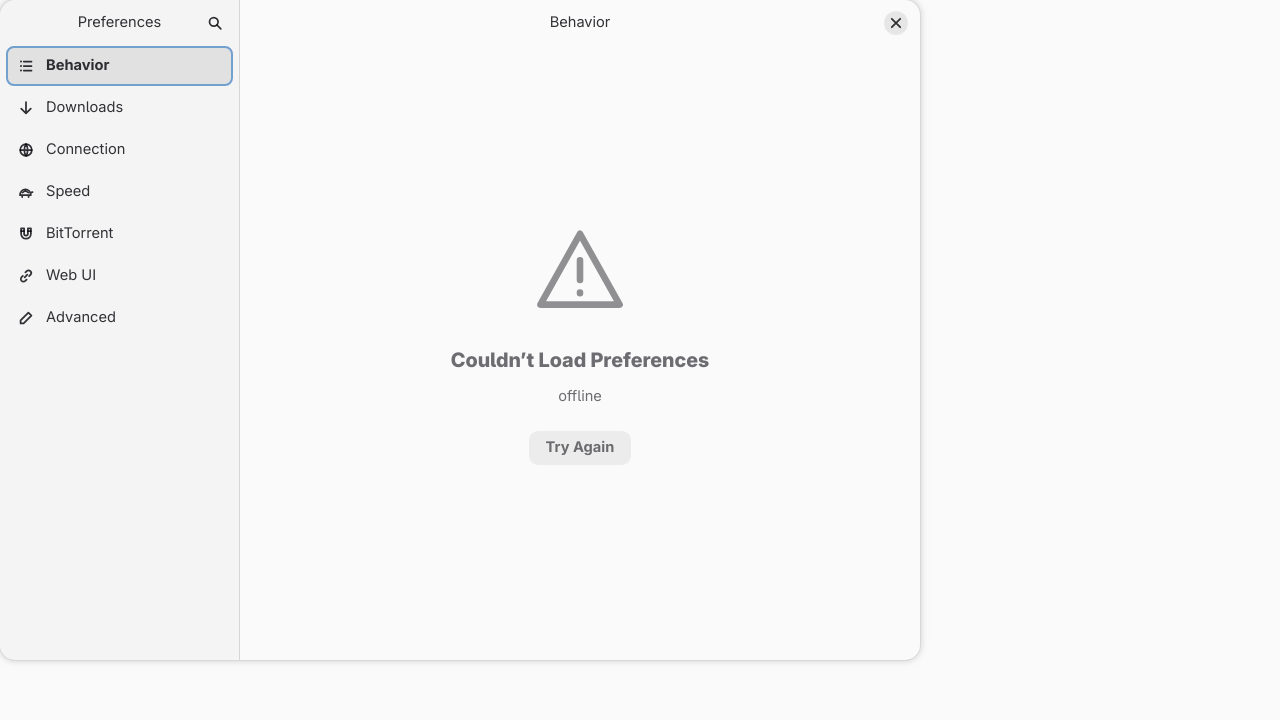
Test: PreferencesDialog › shows an error with Try Again when the preferences can’t be read
The image size is (1280, 720).
Click the button "Try Again". click: {"x": 580, "y": 448}
box: [529,431,631,465]
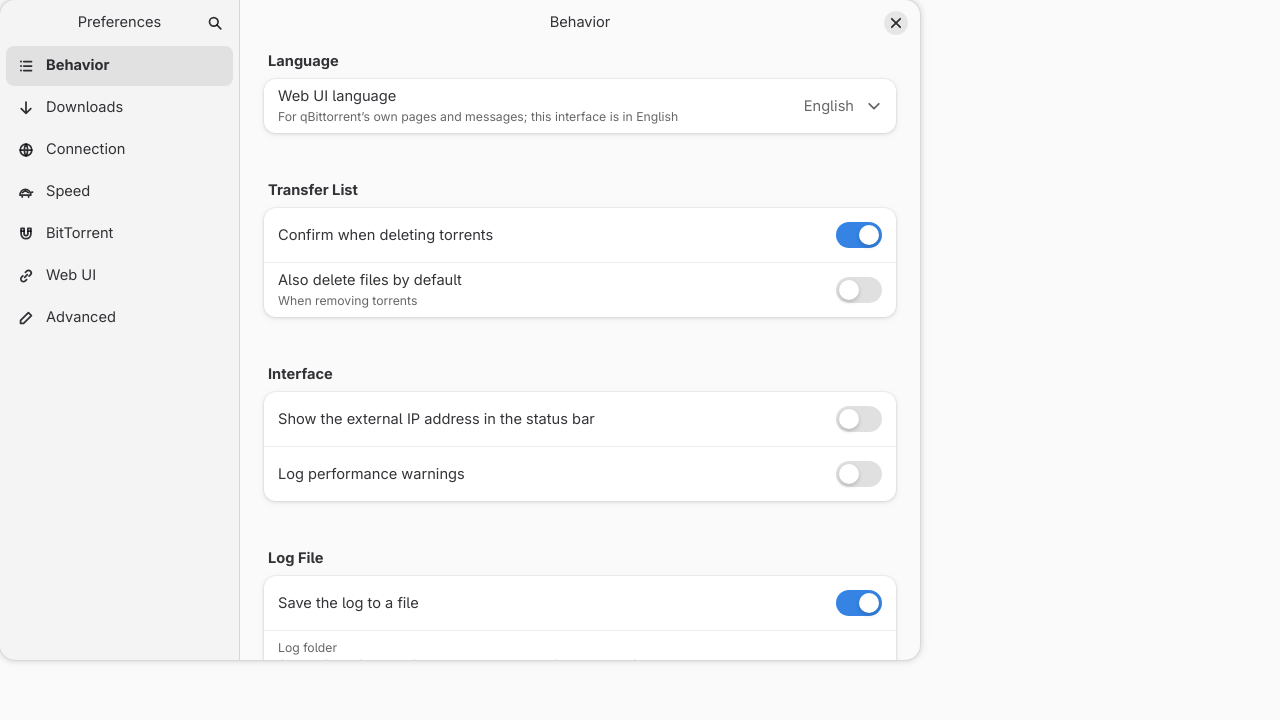
Expected: the element "Transfer List" is shown, [264,181,896,317]
